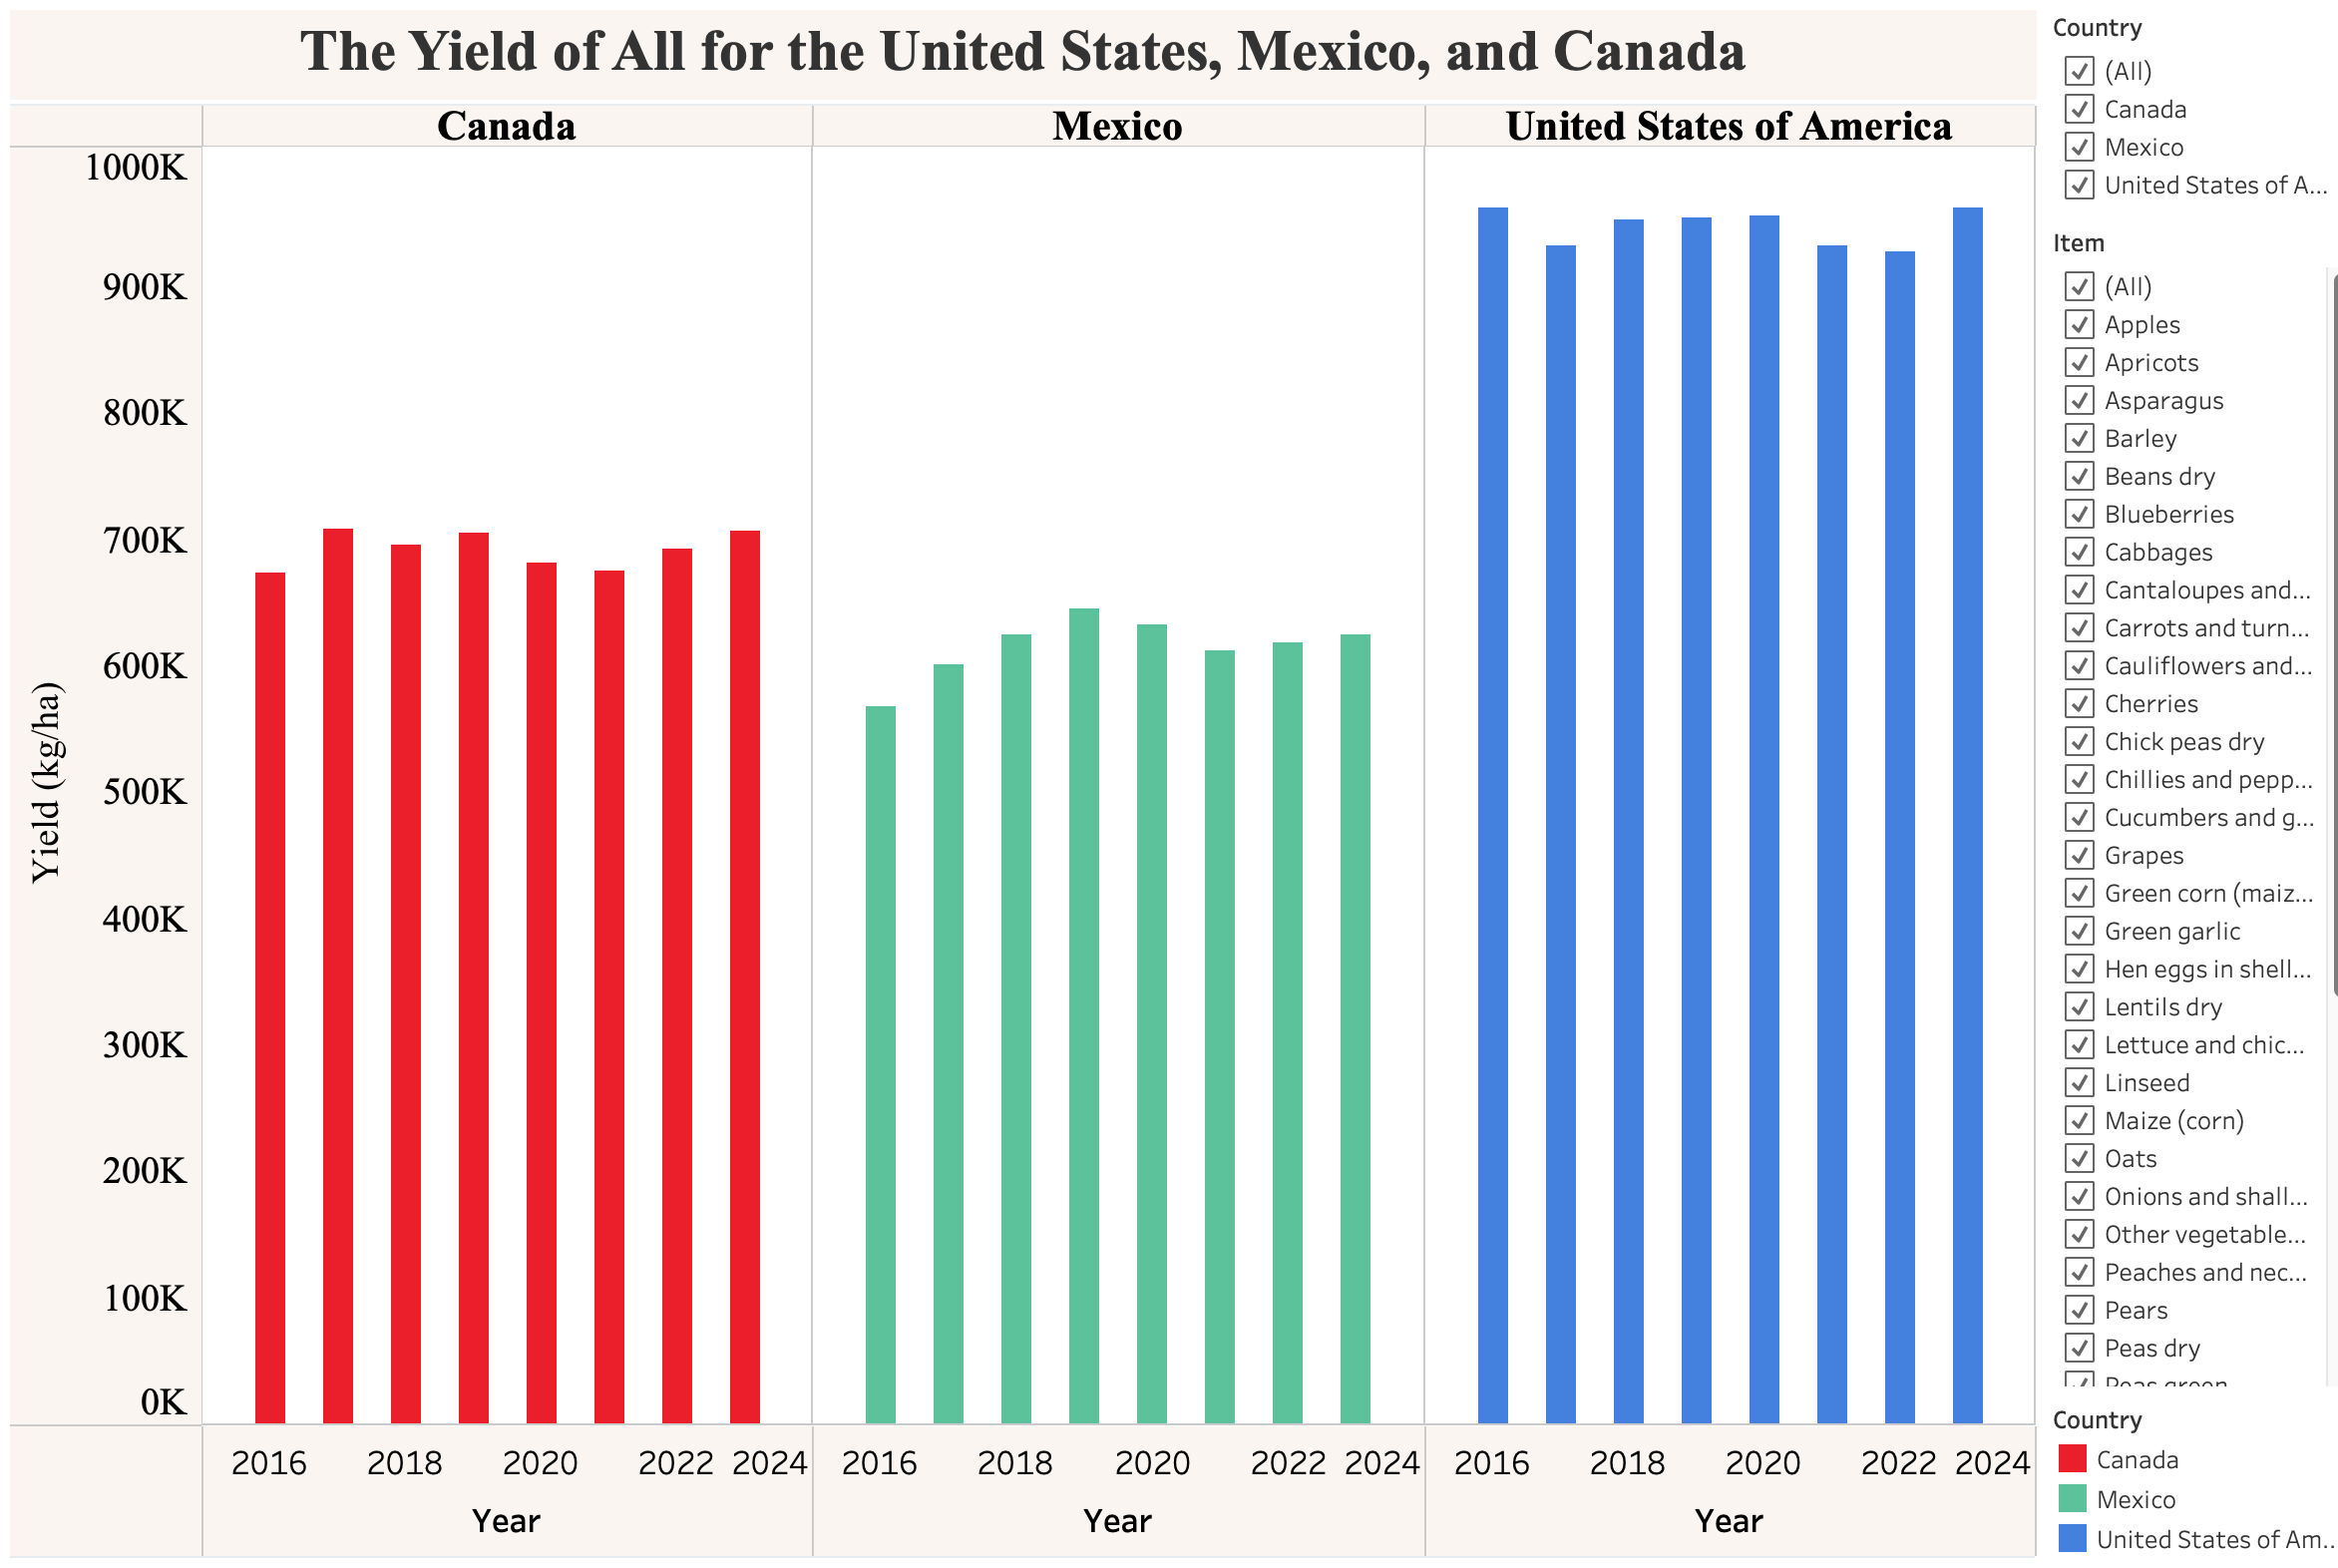

What the dashboard file says about the page in this screenshot:
{"tool":"tableau","page":{"name":"Dashboard 1","canvas":[1200,800],"ordinal":0},"visuals":[{"type":"worksheet","title":"yield","mark":"Bar","rows":["Value"],"cols":["Area","Year"],"box":[8,8,1024,784]},{"type":"filter","title":"yield","param":"[federated.0fg16zw1x0l6lv1b036w90icsjen].[none:area:nk]","box":[1032,8,160,108]},{"type":"filter","title":"yield","param":"[federated.0vianxe0iyll5417yi61e03wm1ru].[none:Item:nk]","box":[1032,116,160,590]},{"type":"legend","title":"yield","param":"[federated.0z5opef0cm133o11jrrv90n5jtt2].[none:Country:nk]","box":[1032,706,160,86]}]}

Visuals, with their boxes in screenshot pixels (x1, y1, x2, y2), scaled from the page's 1200x800 canvas onto the 2338x1568 screenshot:
"yield" worksheet (Bar marks): {"x1": 16, "y1": 16, "x2": 2011, "y2": 1552}
"yield" filter: {"x1": 2011, "y1": 16, "x2": 2322, "y2": 227}
"yield" filter: {"x1": 2011, "y1": 227, "x2": 2322, "y2": 1383}
"yield" legend: {"x1": 2011, "y1": 1383, "x2": 2322, "y2": 1552}
